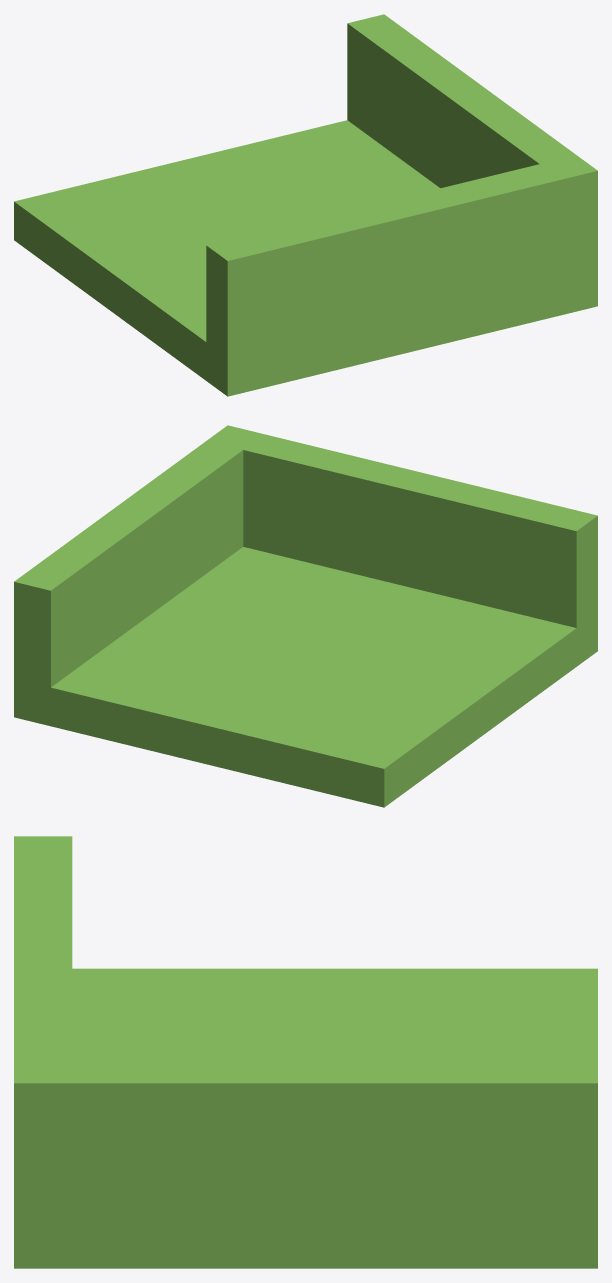
File: LimeRoof_Corner_Small.glb
3 views of the same model, one above another, from view 1: azimuth 30°, elevation 25°; view 2: azimuth 150°, elevation 25°; view 3: azimuth 270°, elevation 25° (orthographic). The views are drawn at different scales.
Parts seen in each view (by area): view 1: roof_flat_corner_small_lime; view 2: roof_flat_corner_small_lime; view 3: roof_flat_corner_small_lime.
Boxes of the visible parts, x1,y1,x2,y2 form: roof_flat_corner_small_lime: (14,14,597,396); roof_flat_corner_small_lime: (14,425,597,807); roof_flat_corner_small_lime: (14,836,597,1268).
Size of what is drawn, in the model's own units: 2 by 0.7 by 2.
Materials: 1 (1 with a texture image).
